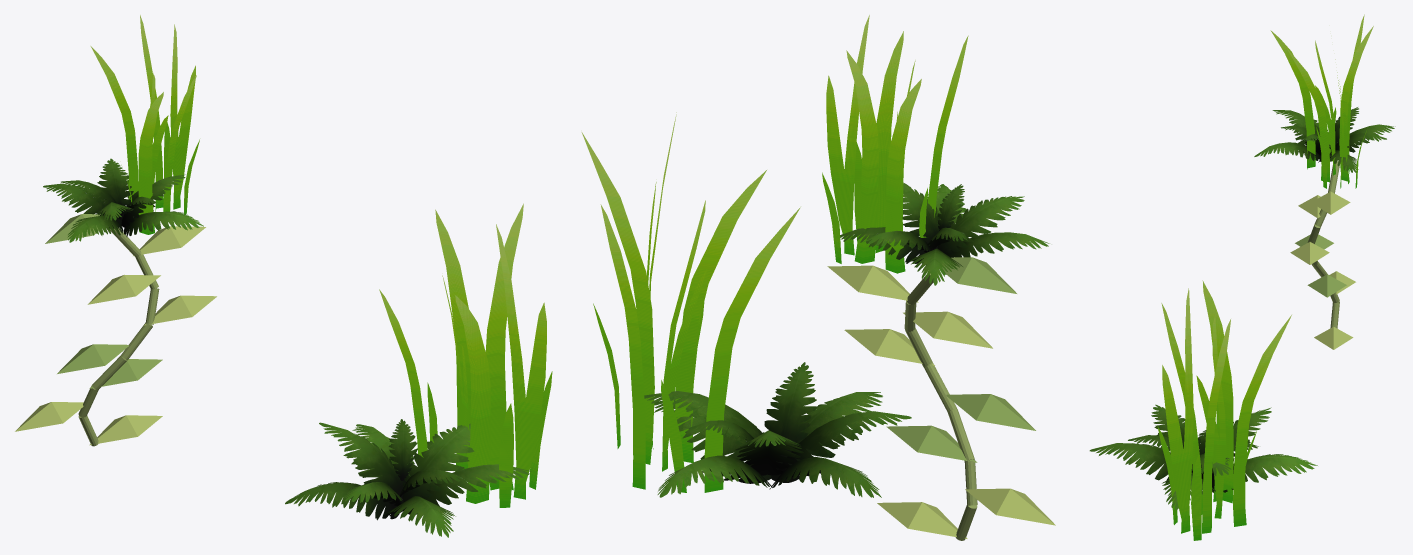
The model's file is Broken_Cargo_Crate_Greenery.glb.
3 renders of one model, left to right at view 1: azimuth 30°, elevation 25°; view 2: azimuth 150°, elevation 25°; view 3: azimuth 270°, elevation 25°, orthographic. The views are drawn at different scales.
Visible parts, largest first — view 1: Patch_000, Patch_001; view 2: Patch_001, Patch_000; view 3: Patch_000, Patch_001.
Boxes of the visible parts, x1,y1,x2,y2 form: Patch_000: (285, 203, 552, 537); Patch_001: (15, 15, 216, 446); Patch_001: (822, 15, 1055, 540); Patch_000: (581, 112, 911, 497); Patch_000: (1089, 280, 1317, 540); Patch_001: (1254, 14, 1395, 349).
Size of the model in its own units: 1.48 by 1.48 by 1.04.
5 materials, 2 textured.
